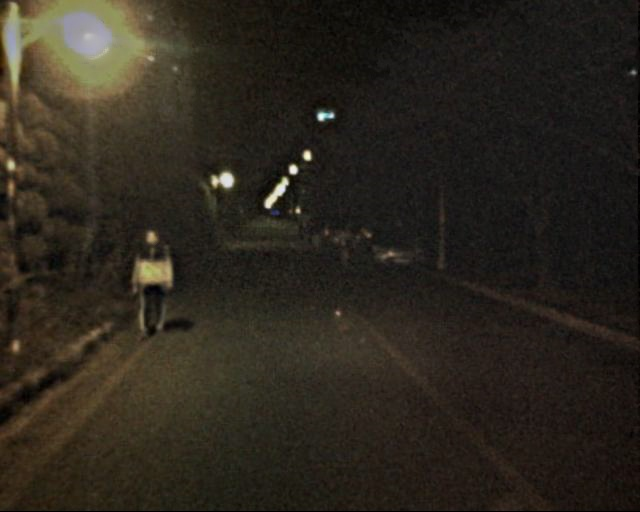person: (133, 222, 179, 335), (336, 225, 355, 272), (298, 219, 321, 248)
